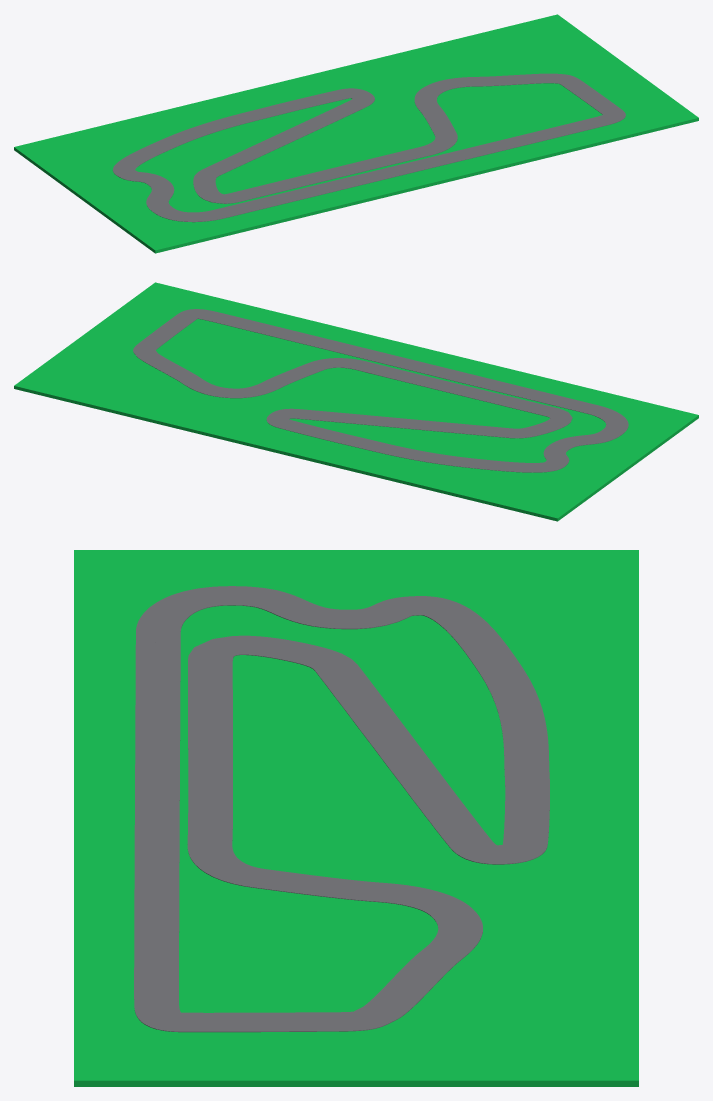
The model's file is Race22.glb.
3 views of the same model, one above another, from view 1: azimuth 30°, elevation 25°; view 2: azimuth 150°, elevation 25°; view 3: azimuth 270°, elevation 25° (orthographic). The views are drawn at different scales.
Visible parts, largest first — view 1: Куб.001, Куб; view 2: Куб.001, Куб; view 3: Куб.001, Куб.
Part boxes in pixels (bbox=[...]): Куб.001: bbox=[14, 14, 698, 253]; Куб: bbox=[112, 73, 625, 222]; Куб.001: bbox=[14, 282, 698, 521]; Куб: bbox=[133, 309, 628, 472]; Куб.001: bbox=[74, 550, 638, 1086]; Куб: bbox=[134, 586, 549, 1032].
Size of the model in its own units: 364 by 2.16 by 164.
